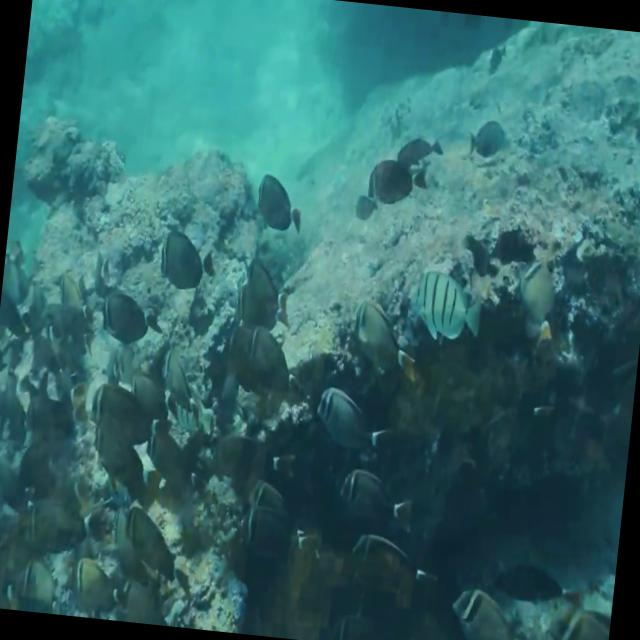fish: (78, 348, 178, 462), (123, 474, 214, 598), (396, 250, 498, 351), (222, 294, 306, 409), (306, 364, 396, 463), (333, 442, 422, 542), (344, 284, 418, 392), (342, 528, 432, 616), (148, 205, 226, 296), (444, 569, 532, 640), (498, 244, 568, 326), (97, 269, 166, 352), (242, 156, 310, 238), (66, 526, 124, 620), (361, 140, 429, 216), (543, 574, 614, 640), (245, 246, 305, 324), (234, 494, 290, 568), (457, 110, 515, 170), (8, 543, 56, 613), (397, 118, 450, 172)
